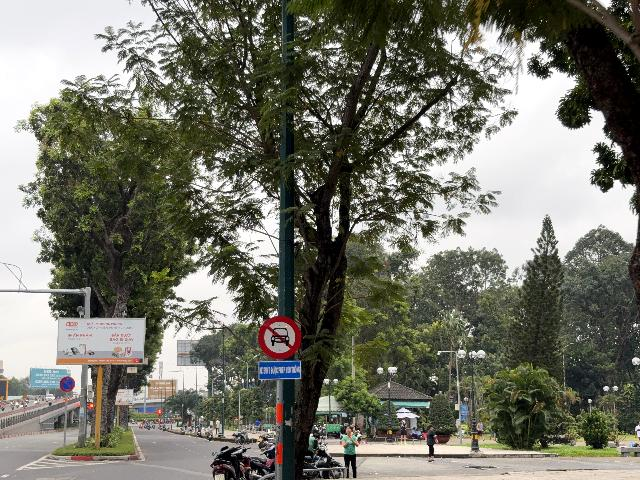cam-o-to: (258, 315, 301, 360)
